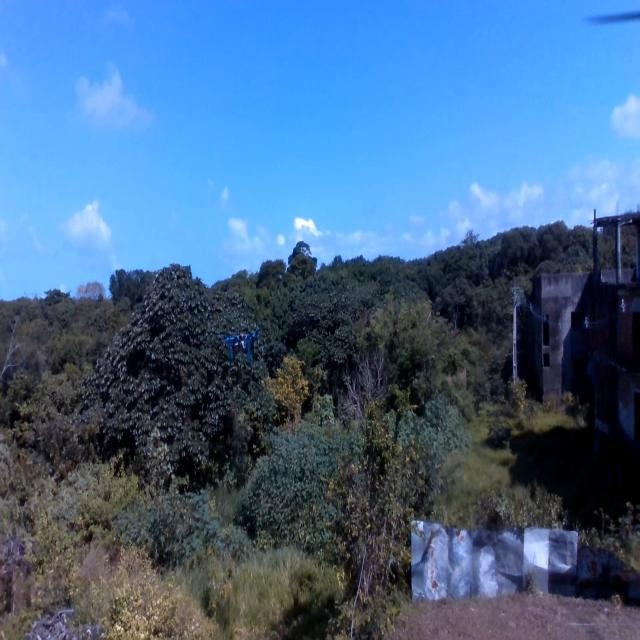-uav-: (215, 313, 268, 383)
